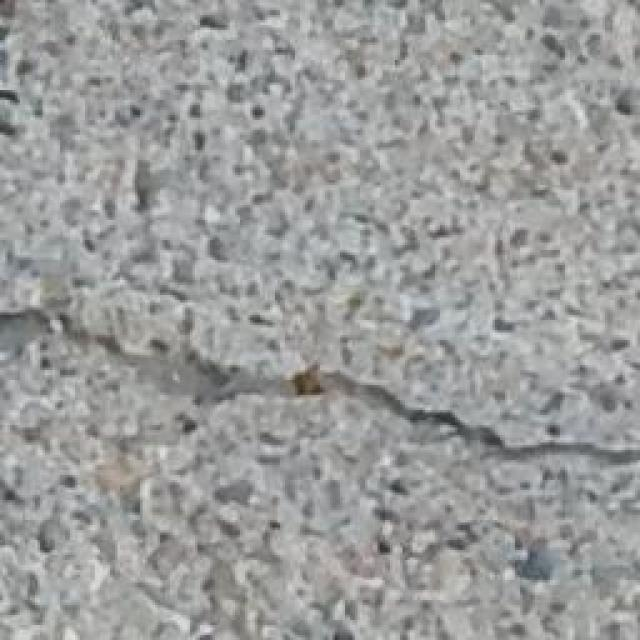concrete-crack: (4, 270, 639, 473)
